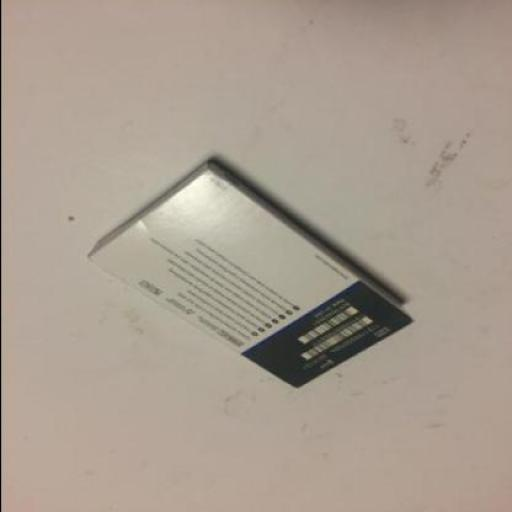cardboard: (84, 162, 410, 389)
